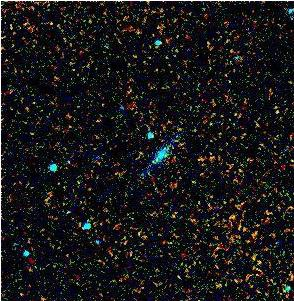star: (197, 139, 227, 169)
